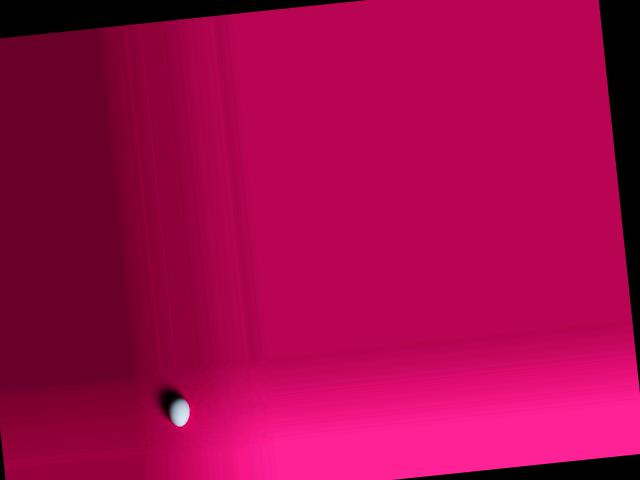egg: (167, 395, 192, 427)
